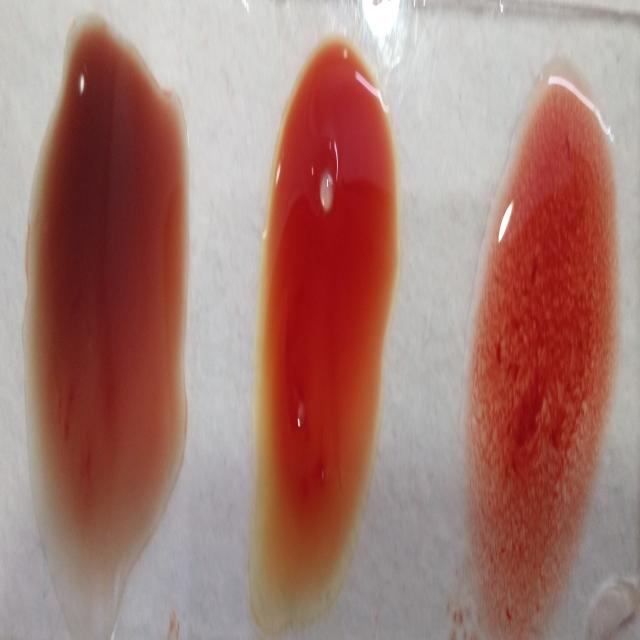D: (469, 66, 612, 614)
